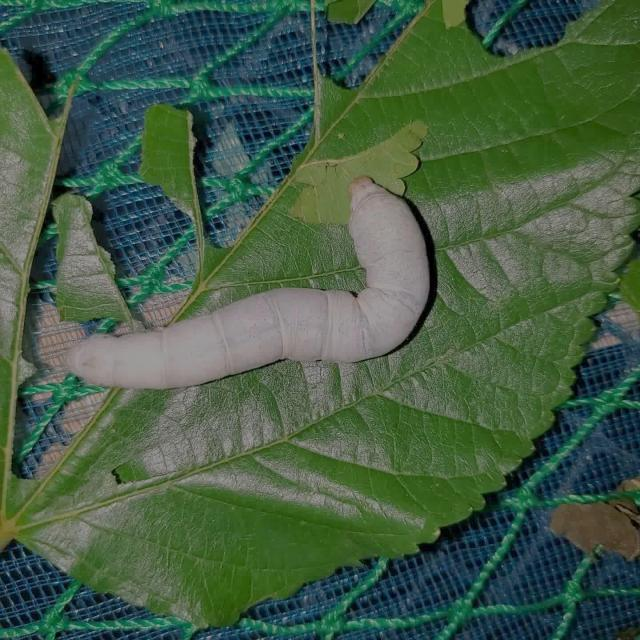Healthy: (27, 116, 485, 442)
